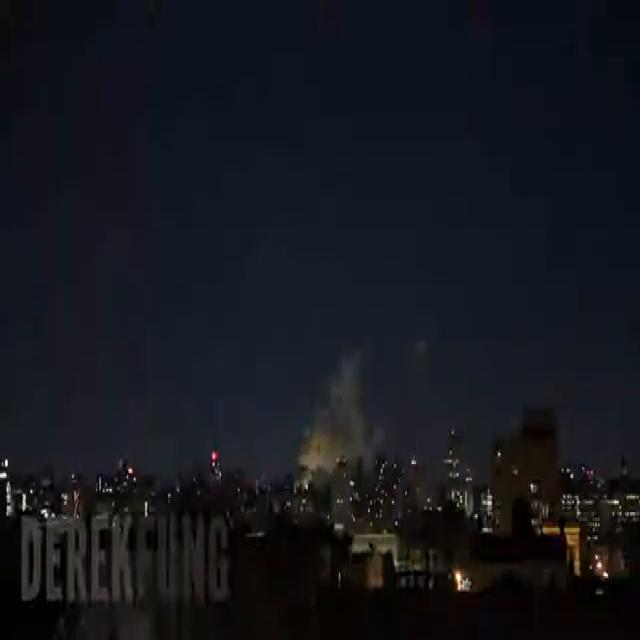smoke: (298, 356, 380, 471), (416, 340, 426, 350)
